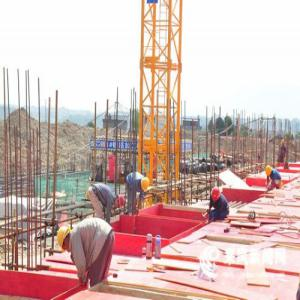red: (115, 193, 125, 209), (212, 188, 222, 203)
yellow: (57, 226, 72, 254), (140, 177, 151, 193), (266, 164, 273, 177), (281, 140, 286, 148)
